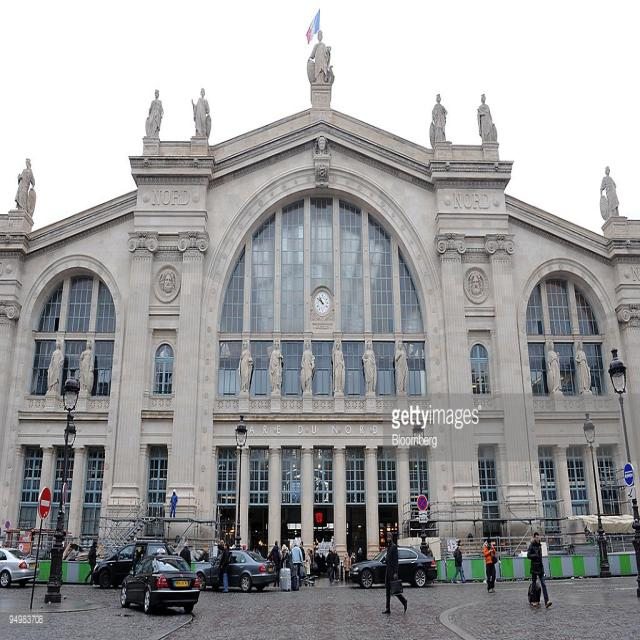body: (0, 22, 632, 420), (381, 530, 408, 616), (527, 529, 554, 609), (483, 536, 498, 594), (450, 543, 468, 584), (288, 542, 304, 588), (450, 539, 467, 582), (266, 540, 281, 588), (83, 540, 98, 586), (218, 539, 230, 594), (238, 540, 262, 560), (314, 548, 328, 579), (278, 540, 292, 570), (324, 546, 335, 583), (179, 541, 192, 569), (131, 548, 145, 573), (169, 486, 179, 520), (303, 550, 311, 587), (343, 550, 351, 586), (333, 548, 341, 583), (357, 545, 365, 576), (306, 547, 312, 587), (309, 549, 315, 587), (298, 539, 306, 562), (288, 570, 296, 592), (351, 552, 357, 576), (350, 552, 354, 577)
